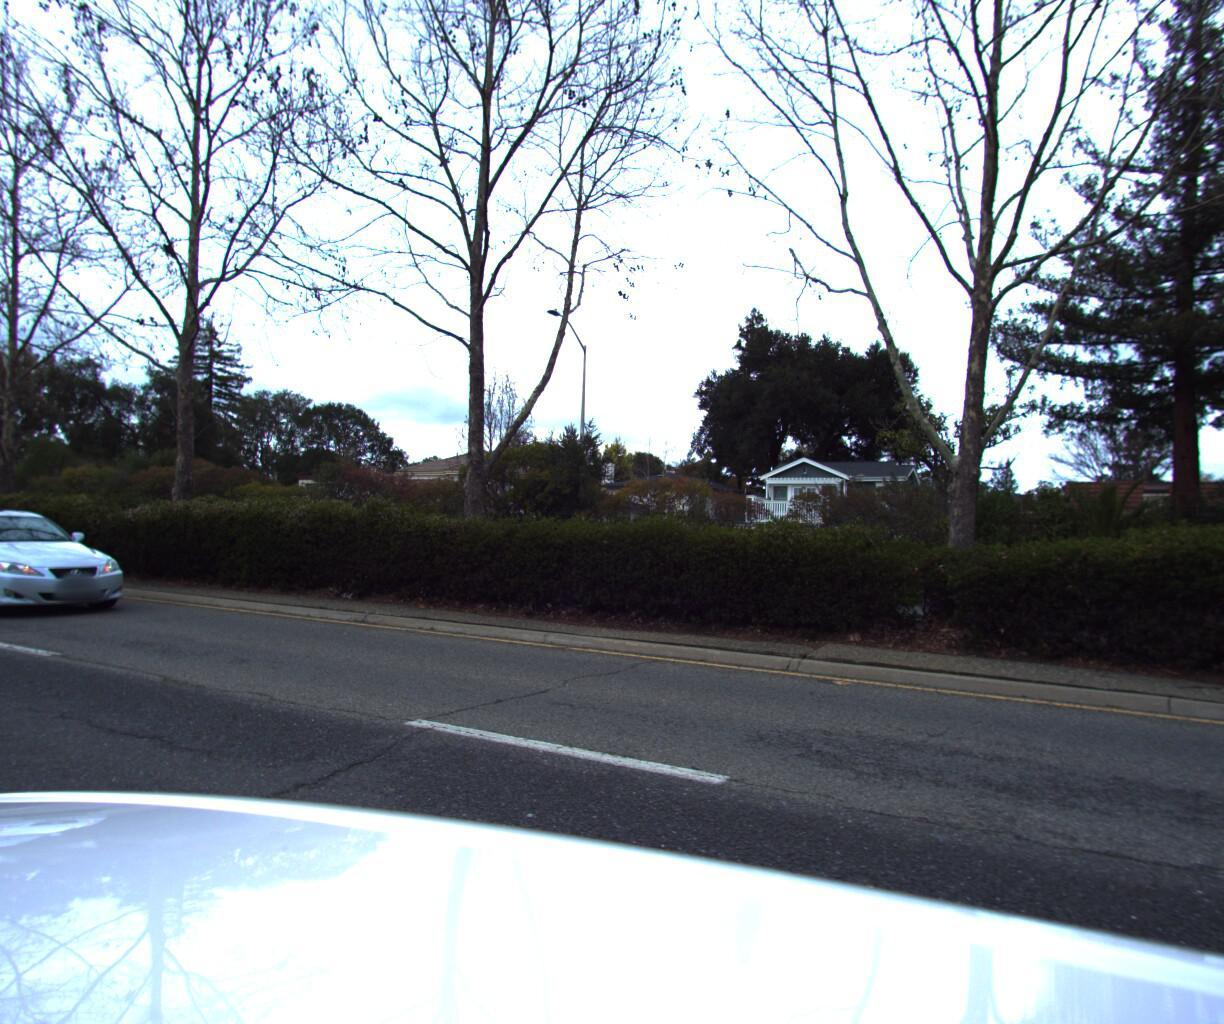car: (0, 496, 143, 622)
